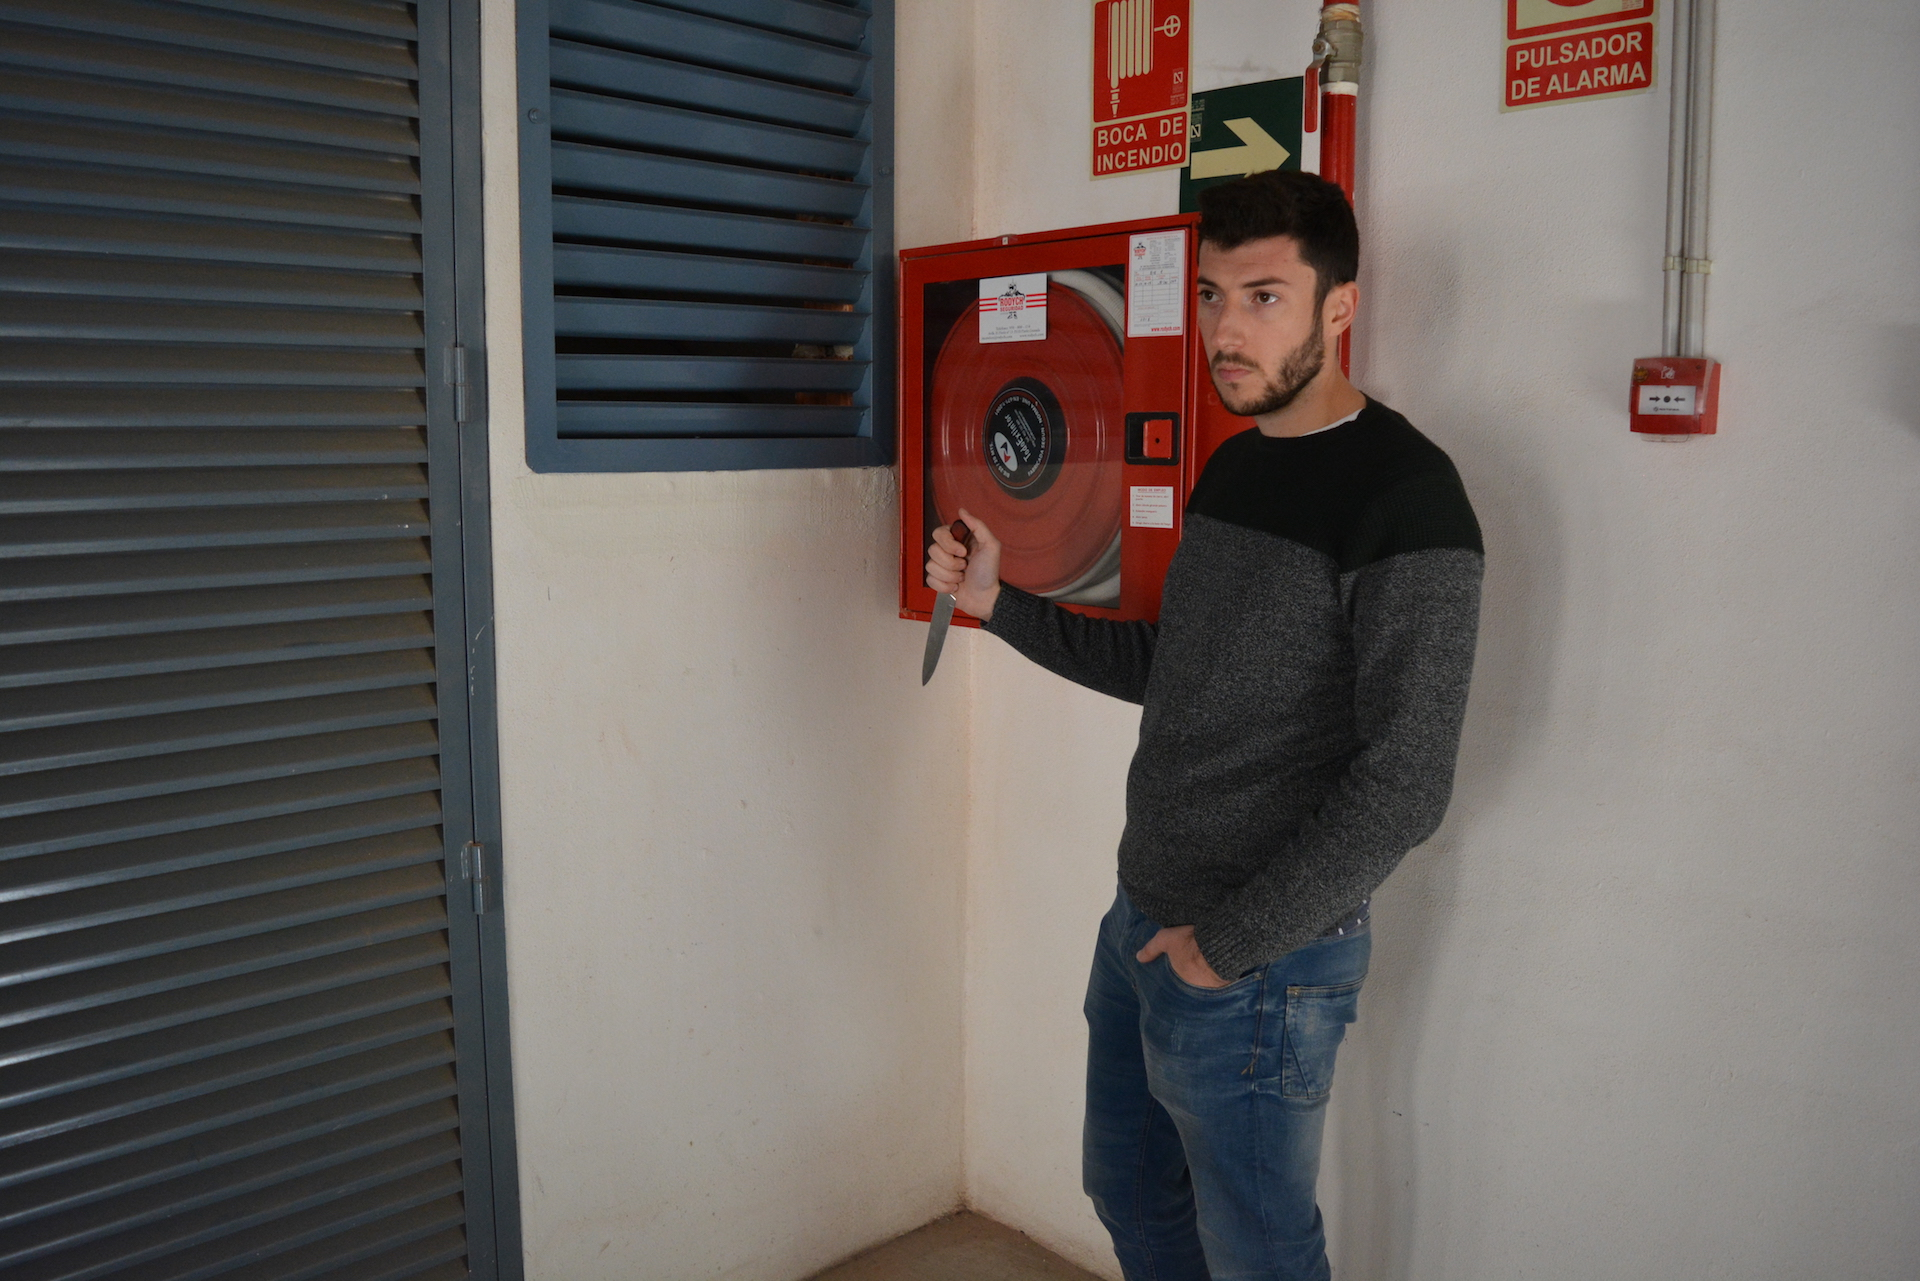knife: (915, 505, 974, 698)
